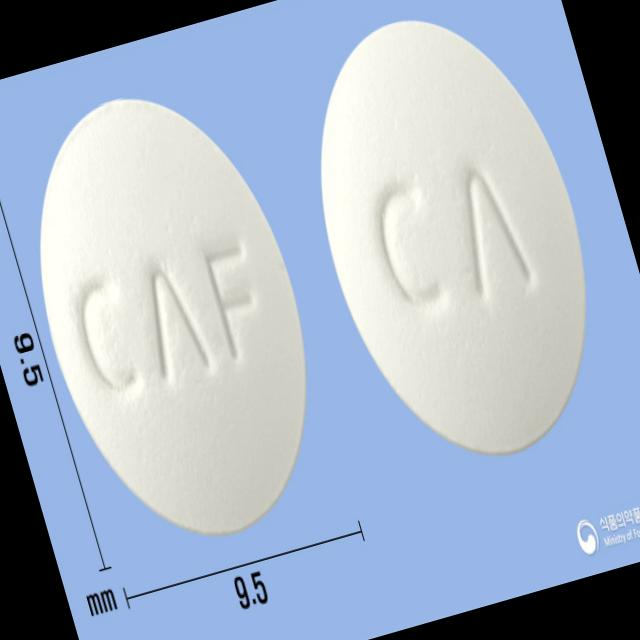Ciflox-Q: (270, 0, 639, 495), (0, 61, 356, 570)
